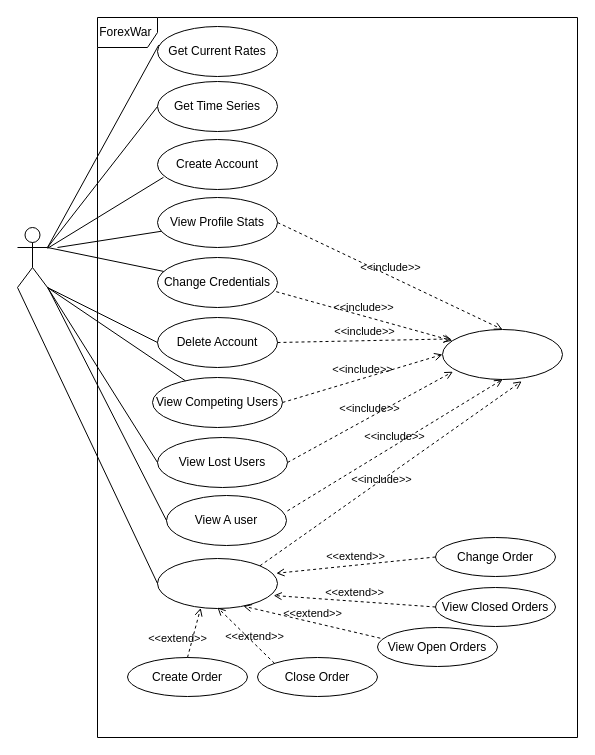
The diagram is 595 pixels wide and 755 high, and some of its shapes have lost their labels. Each missing label, with the box of its shape:
Authorize: (442, 328, 562, 380)
Trade: (156, 558, 278, 608)
User: (16, 226, 48, 288)
